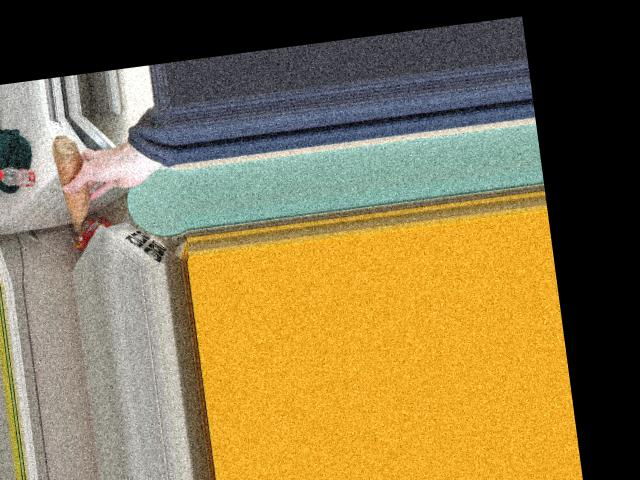sweet_potato: (61, 146, 91, 223)
